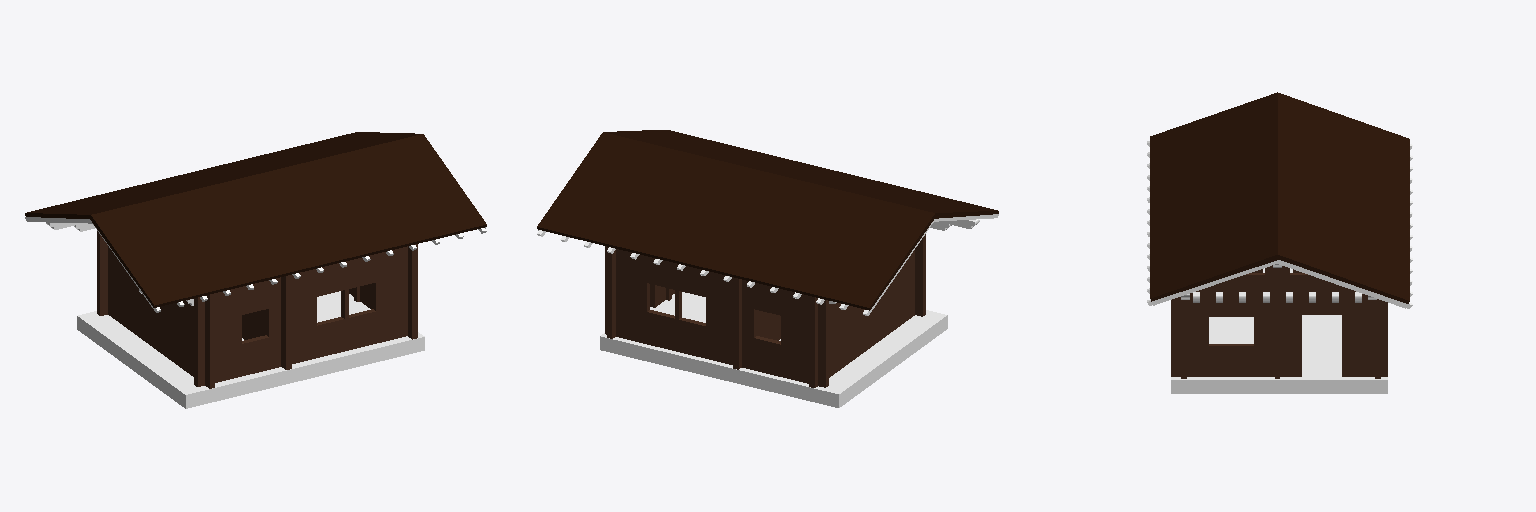
The model's file is hut.obj.
The picture shows the model from 3 angles: view 1: azimuth 30°, elevation 25°; view 2: azimuth 150°, elevation 25°; view 3: azimuth 270°, elevation 25°; orthographic projection.
Parts seen in each view (by area): view 1: Dach, Wand1_1, fundament, Würfel.4_1, Würfel.4, Wand, Wand1, Deckfläche_1; view 2: Dach, Wand1, fundament, Würfel.4_1, Würfel.4, Wand, Wand1_1, Deckfläche_1; view 3: Dach, Wand, fundament, Deckfläche_2_1, Deckfläche_2, Würfel.
Boxes of the visible parts, <box> form: Dach: <box>27,132,486,307</box>; Wand1_1: <box>194,246,407,386</box>; fundament: <box>77,291,424,408</box>; Würfel.4_1: <box>108,246,214,388</box>; Würfel.4: <box>242,275,291,369</box>; Wand: <box>349,244,417,339</box>; Wand1: <box>97,231,107,315</box>; Deckfläche_1: <box>25,213,153,307</box>; Dach: <box>537,130,997,310</box>; Wand1: <box>605,246,828,387</box>; fundament: <box>600,292,947,407</box>; Würfel.4_1: <box>809,250,914,387</box>; Würfel.4: <box>733,277,780,369</box>; Wand: <box>607,247,674,338</box>; Wand1_1: <box>915,234,925,316</box>; Deckfläche_1: <box>870,211,998,309</box>; Dach: <box>1150,92,1409,300</box>; Wand: <box>1171,265,1387,376</box>; fundament: <box>1171,315,1387,393</box>; Deckfläche_2_1: <box>1152,260,1407,308</box>; Deckfläche_2: <box>1151,255,1409,303</box>; Würfel: <box>1275,268,1279,378</box>.
Bounding box in the file's own units: 6.03 × 2.86 × 4.18.